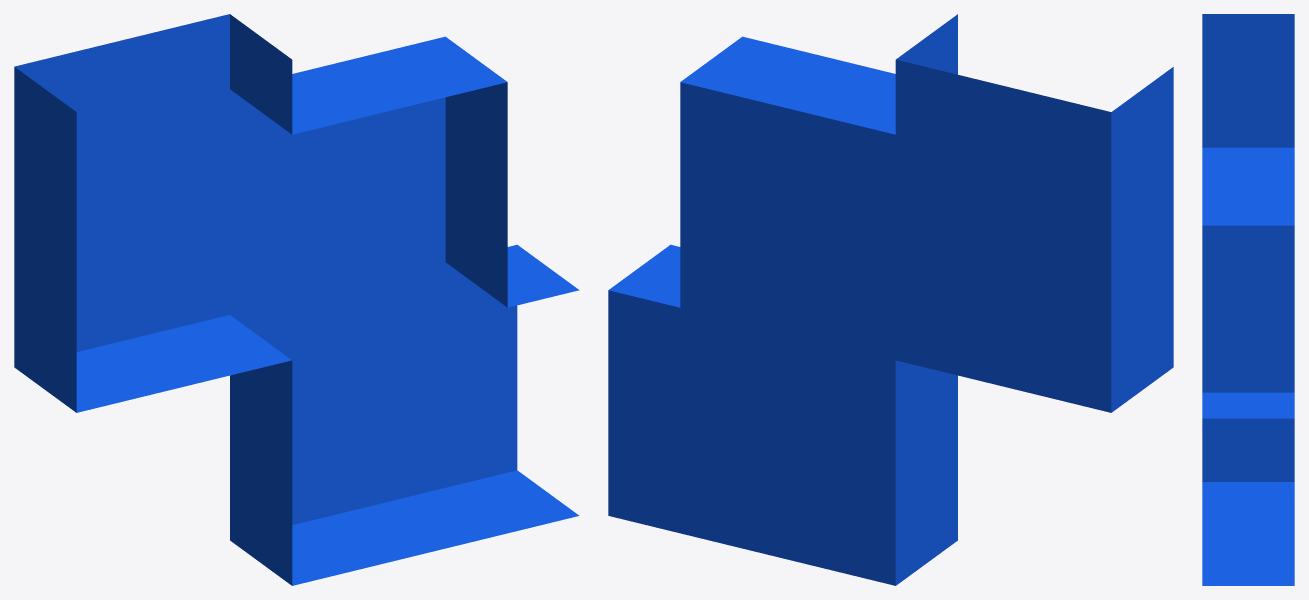
Rendered from cell_0.obj.
3 views of the same model, side by side, from view 1: azimuth 30°, elevation 25°; view 2: azimuth 150°, elevation 25°; view 3: azimuth 270°, elevation 25° (orthographic). The views are drawn at different scales.
Bounding box in the file's own units: 0.4375 × 0.4375 × 0.0938.
